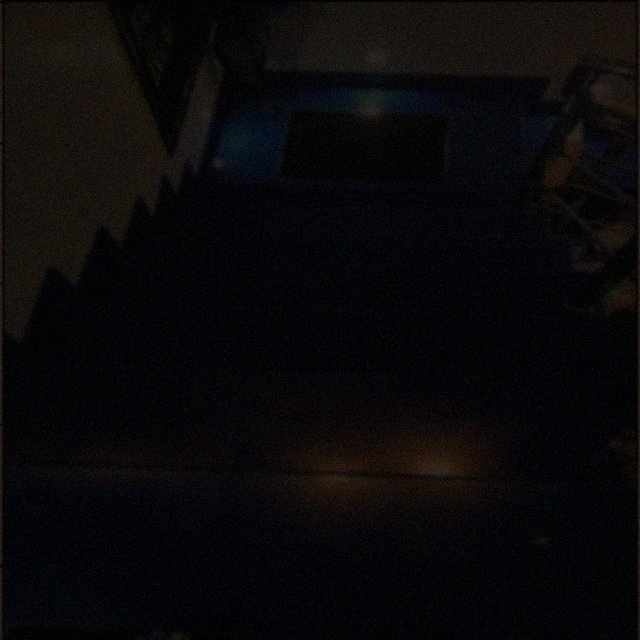stair: (4, 81, 639, 639)
